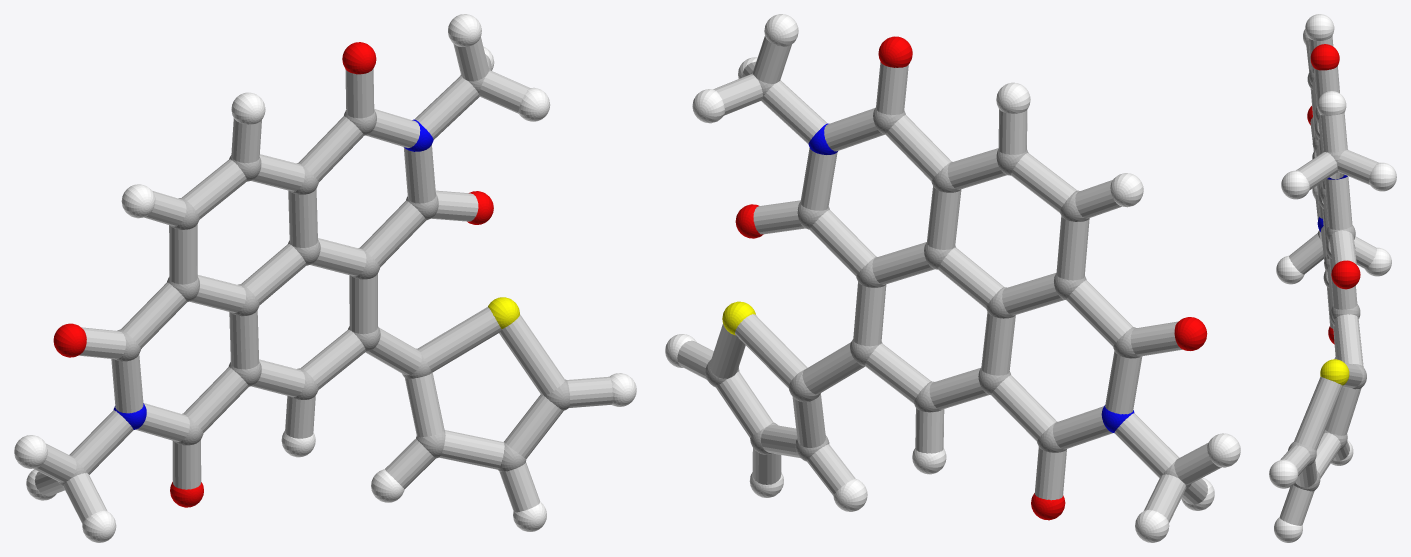
Rendered from color.glb.
3 renders of one model, left to right at view 1: azimuth 30°, elevation 25°; view 2: azimuth 150°, elevation 25°; view 3: azimuth 270°, elevation 25°, orthographic. The views are drawn at different scales.
Visible parts, largest first — view 1: grp14119, grp7241, grp1, grp12309, grp11585; view 2: grp14119, grp7241, grp1, grp12309, grp11585; view 3: grp14119, grp7241, grp1, grp12309, grp13757.
Boxes of the visible parts, x1=… form: grp14119: x1=33, y1=37, x2=612, y2=523; grp7241: x1=14, y1=14, x2=636, y2=542; grp1: x1=58, y1=68, x2=569, y2=486; grp12309: x1=53, y1=42, x2=493, y2=507; grp11585: x1=113, y1=119, x2=433, y2=429; grp14119: x1=677, y1=36, x2=1221, y2=522; grp7241: x1=665, y1=14, x2=1240, y2=542; grp1: x1=705, y1=71, x2=1191, y2=489; grp12309: x1=735, y1=36, x2=1207, y2=520; grp11585: x1=808, y1=123, x2=1134, y2=432; grp14119: x1=1279, y1=35, x2=1379, y2=525; grp7241: x1=1269, y1=14, x2=1396, y2=542; grp1: x1=1288, y1=70, x2=1366, y2=491; grp12309: x1=1307, y1=44, x2=1360, y2=344; grp13757: x1=1320, y1=359, x2=1349, y2=385.
Bounding box in the file's own units: 12.04 × 9.85 × 2.63.
